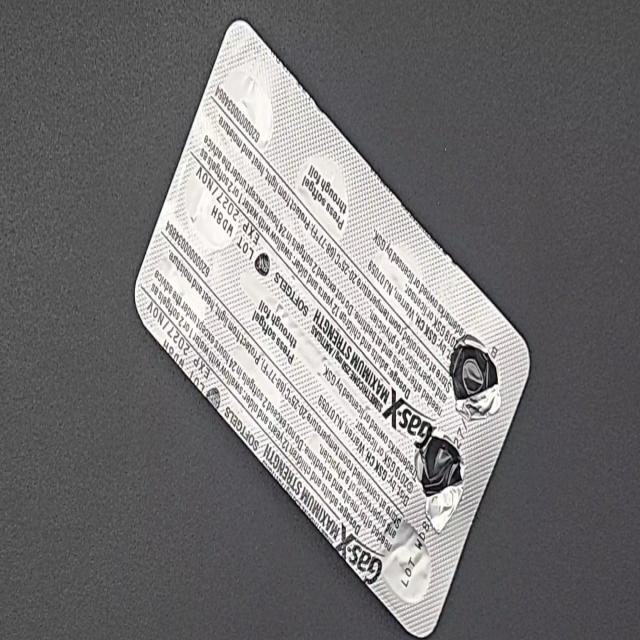defect: (414, 426, 468, 538), (448, 330, 504, 425)
